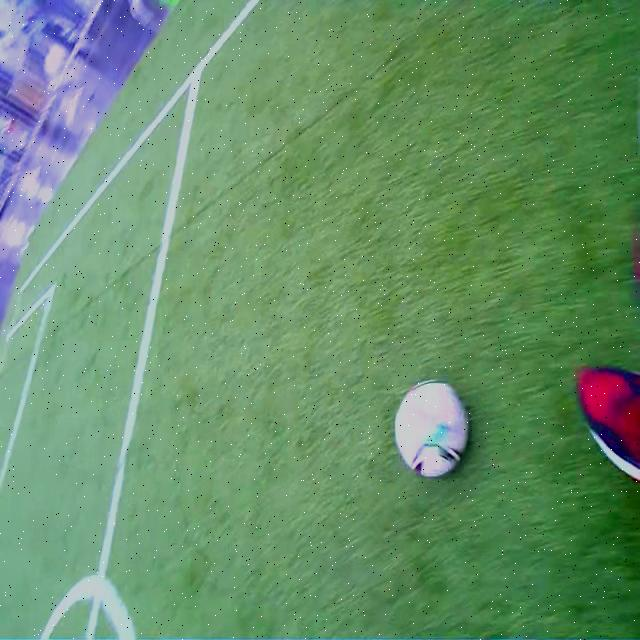ball: (395, 378, 468, 474)
